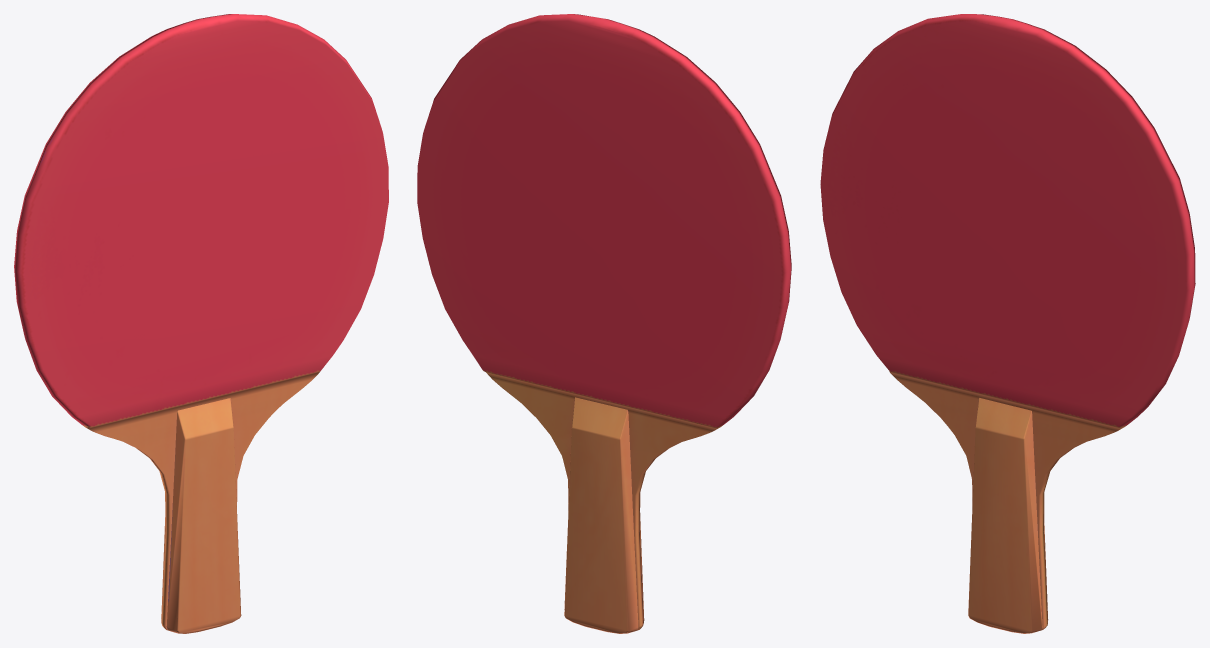
Rendered from TableTennis bat.fbx.
3 views of the same model, side by side, from view 1: azimuth 30°, elevation 25°; view 2: azimuth 150°, elevation 25°; view 3: azimuth 330°, elevation 25° (orthographic).
Visible parts, largest first — view 1: table_tennis; view 2: table_tennis; view 3: table_tennis.
Part boxes in pixels (x1,y1,x2,y2): table_tennis: [14, 14, 388, 633]; table_tennis: [417, 14, 791, 633]; table_tennis: [820, 14, 1195, 633].
Size of the model in its own units: 108 by 168 by 8.65.
1 material, 1 textured.
